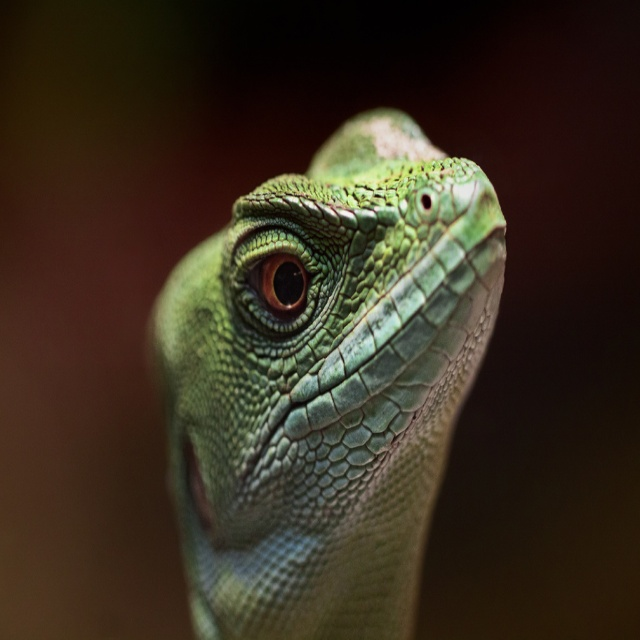Lizard: (147, 107, 507, 640)
